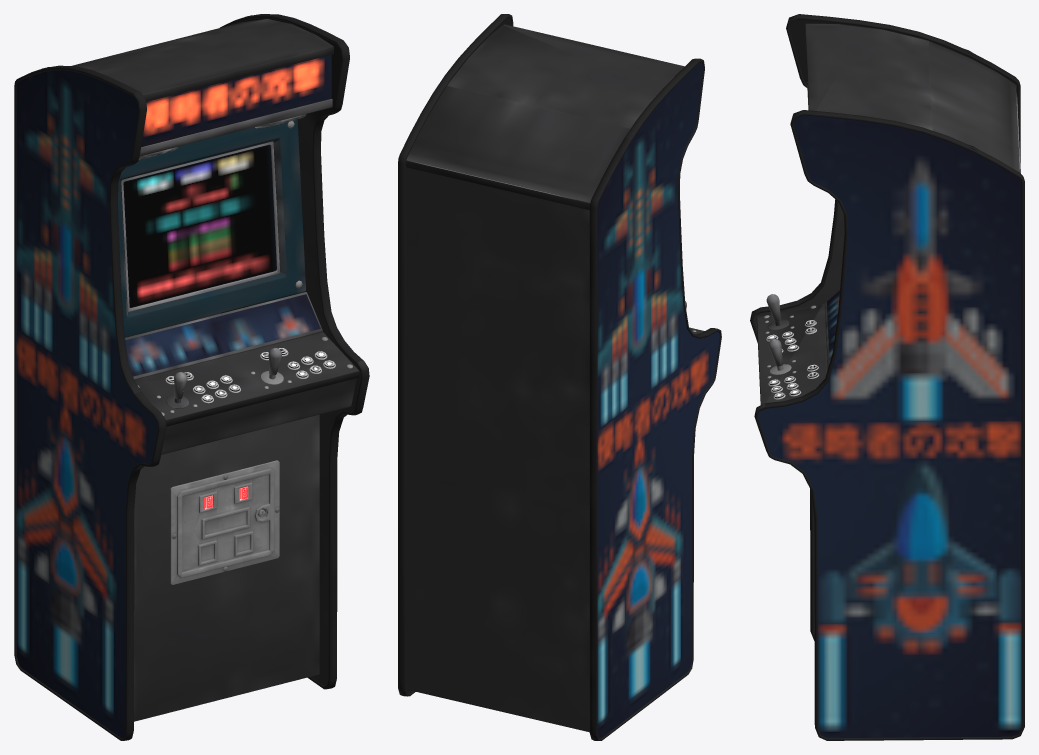
Rendered from arcade-cabinet.glb.
3 views of the same model, side by side, from view 1: azimuth 30°, elevation 25°; view 2: azimuth 150°, elevation 25°; view 3: azimuth 270°, elevation 25° (orthographic). The views are drawn at different scales.
Parts seen in each view (by area): view 1: Object_5, Object_3, Object_2; view 2: Object_3, Object_5; view 3: Object_5, Object_3.
Part boxes in pixels (x1,y1,x2,y2): Object_5: (16,15,334,737); Object_3: (14,14,369,740); Object_2: (170,460,279,584); Object_3: (398,14,721,740); Object_5: (422,62,719,738); Object_5: (758,48,1021,738); Object_3: (750,14,1024,740).
Bounding box in the file's own units: 0.572 × 1.65 × 0.6539.
4 materials, 4 textured.
